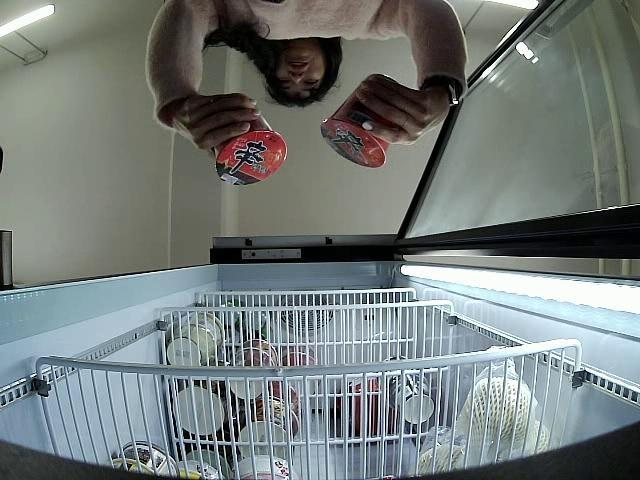02_shinRamen_S: (320, 74, 390, 166), (212, 107, 287, 186)
